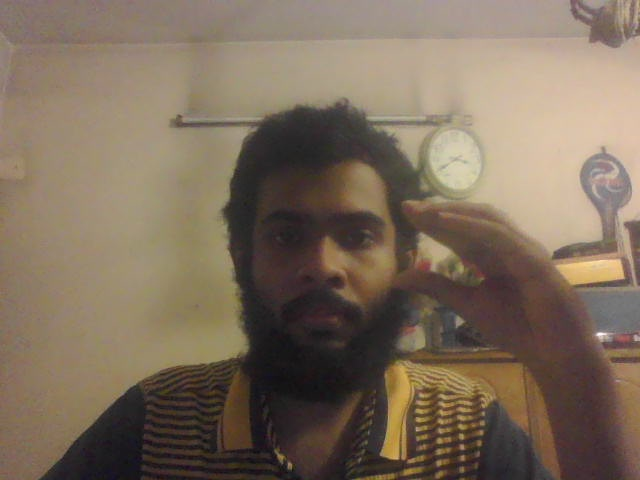No: (395, 198, 596, 359)
